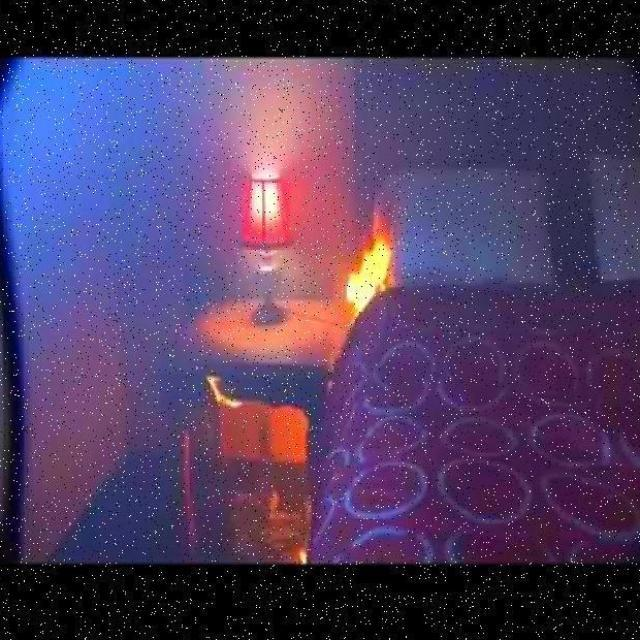smoke: (343, 232, 396, 316)
